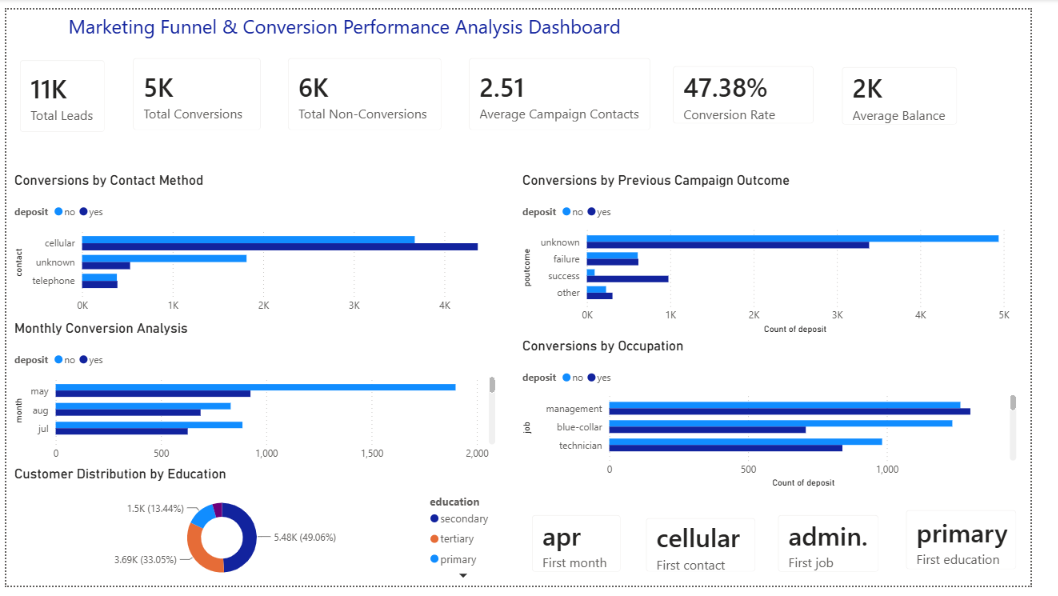

The page's visual inventory and layout, read from the dashboard file:
{"tool":"powerbi","page":{"name":"Page 1","canvas":[1280,720],"ordinal":0},"visuals":[{"type":"cardVisual","fields":{"Data":["bank.Total Leads"]},"box":[0,46.2,140.6,124.7],"z":0},{"type":"cardVisual","fields":{"Data":["bank.Total Conversions"]},"box":[140.6,44,194.4,124.7],"z":1000},{"type":"cardVisual","fields":{"Data":["bank.Total Non-Conversions"]},"box":[335.1,44,226.2,124.7],"z":2000},{"type":"cardVisual","fields":{"Data":["bank.Average Campaign Contacts"]},"box":[561.3,44,261.7,124.7],"z":4000},{"type":"cardVisual","fields":{"Data":["bank.Average Balance"]},"box":[1027.2,55,178.5,106.4],"z":5000},{"type":"clusteredBarChart","title":"Conversions by Contact Method","fields":{"Category":["bank.contact"],"Y":["CountNonNull(bank.deposit)"],"Series":["bank.deposit"]},"box":[5,202.5,611.2,185],"z":6000},{"type":"clusteredBarChart","title":"Conversions by Occupation","fields":{"Category":["bank.job"],"Y":["CountNonNull(bank.deposit)"],"Series":["bank.deposit"]},"box":[640,410,627.5,192.5],"z":7000},{"type":"clusteredBarChart","title":"Monthly Conversion Analysis","fields":{"Category":["bank.month"],"Y":["CountNonNull(bank.deposit)"],"Series":["bank.deposit"]},"box":[5,387.5,611.2,185],"z":8000},{"type":"clusteredBarChart","title":"Conversions by Previous Campaign Outcome","fields":{"Category":["bank.poutcome"],"Y":["CountNonNull(bank.deposit)"],"Series":["bank.deposit"]},"box":[640,202.5,618.8,207.5],"z":9000},{"type":"donutChart","title":"Customer Distribution by Education","fields":{"Category":["bank.education"],"Y":["CountNonNull(bank.deposit)"]},"box":[5,570,611.2,150],"z":10000},{"type":"cardVisual","fields":{"Data":["bank.Conversion Rate"]},"box":[816.9,53.8,210.3,106.4],"z":10001},{"type":"textbox","box":[0,0,838.8,53.8],"z":10002},{"type":"cardVisual","fields":{"Data":["Min(bank.month)"]},"box":[640,615,145,105],"z":10003},{"type":"cardVisual","fields":{"Data":["Min(bank.contact)"]},"box":[782.5,618.8,171.2,101.2],"z":10004},{"type":"cardVisual","fields":{"Data":["Min(bank.job)"]},"box":[947.5,615,160,105],"z":10005},{"type":"cardVisual","fields":{"Data":["Min(bank.education)"]},"box":[1107.5,608.8,172.5,108.8],"z":10006}]}

Visuals, with their boxes in screenshot pixels (x1, y1, x2, y2), scaled from the page's 1280x720 canvas onto the 1058x596 screenshot:
cardVisual - bank.Total Leads: Rect(0, 38, 116, 141)
cardVisual - bank.Total Conversions: Rect(116, 36, 277, 140)
cardVisual - bank.Total Non-Conversions: Rect(277, 36, 464, 140)
cardVisual - bank.Average Campaign Contacts: Rect(464, 36, 680, 140)
cardVisual - bank.Average Balance: Rect(849, 46, 997, 134)
"Conversions by Contact Method" clusteredBarChart: Rect(4, 168, 509, 321)
"Conversions by Occupation" clusteredBarChart: Rect(529, 339, 1048, 499)
"Monthly Conversion Analysis" clusteredBarChart: Rect(4, 321, 509, 474)
"Conversions by Previous Campaign Outcome" clusteredBarChart: Rect(529, 168, 1040, 339)
"Customer Distribution by Education" donutChart: Rect(4, 472, 509, 595)
cardVisual - bank.Conversion Rate: Rect(675, 45, 849, 133)
textbox: Rect(0, 0, 693, 45)
cardVisual - Min(bank.month): Rect(529, 509, 649, 595)
cardVisual - Min(bank.contact): Rect(647, 512, 788, 595)
cardVisual - Min(bank.job): Rect(783, 509, 915, 595)
cardVisual - Min(bank.education): Rect(915, 504, 1057, 594)
